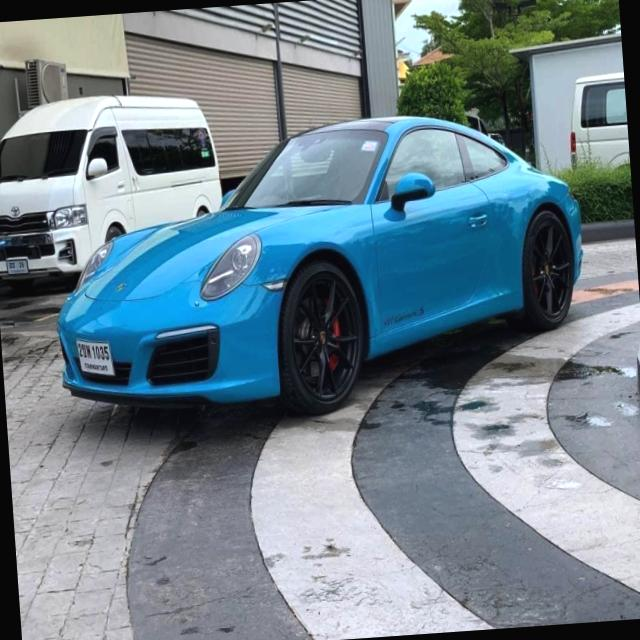license_plate: (72, 332, 122, 386)
